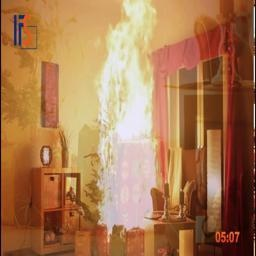fire: (81, 0, 166, 227)
